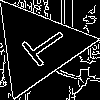T: (12, 21, 72, 74)
